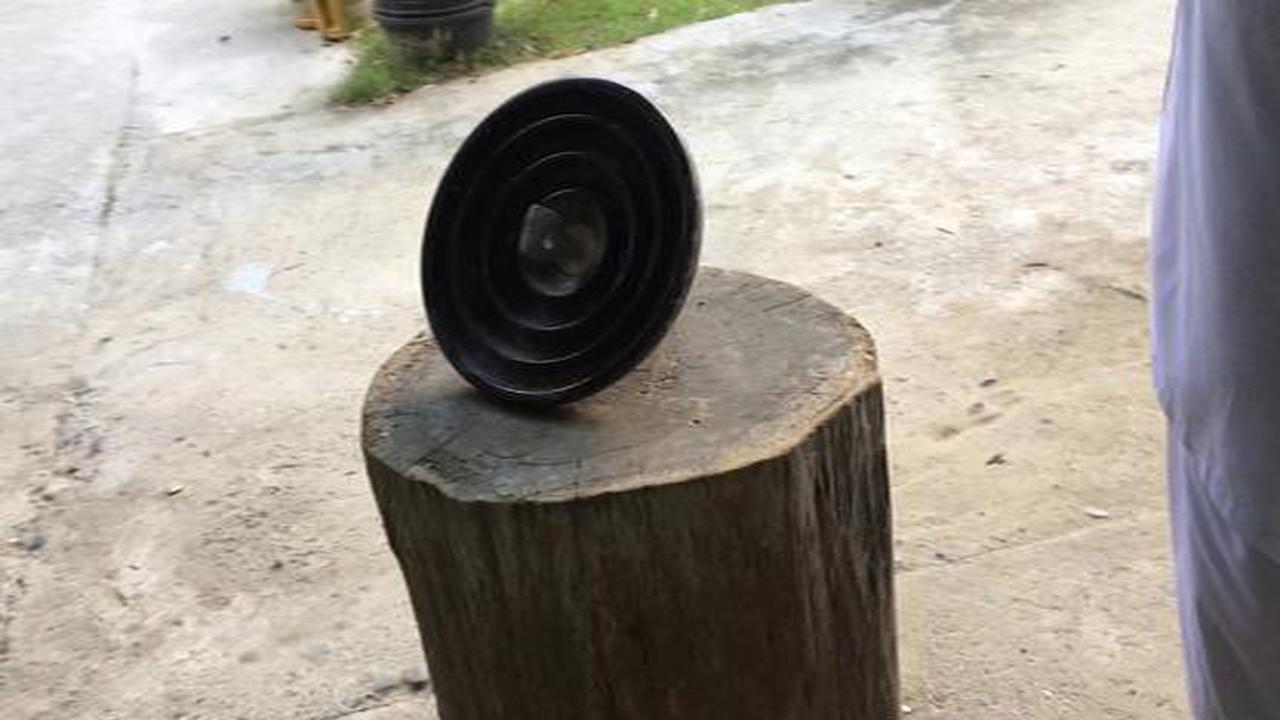insulator_disc: (415, 73, 706, 414)
